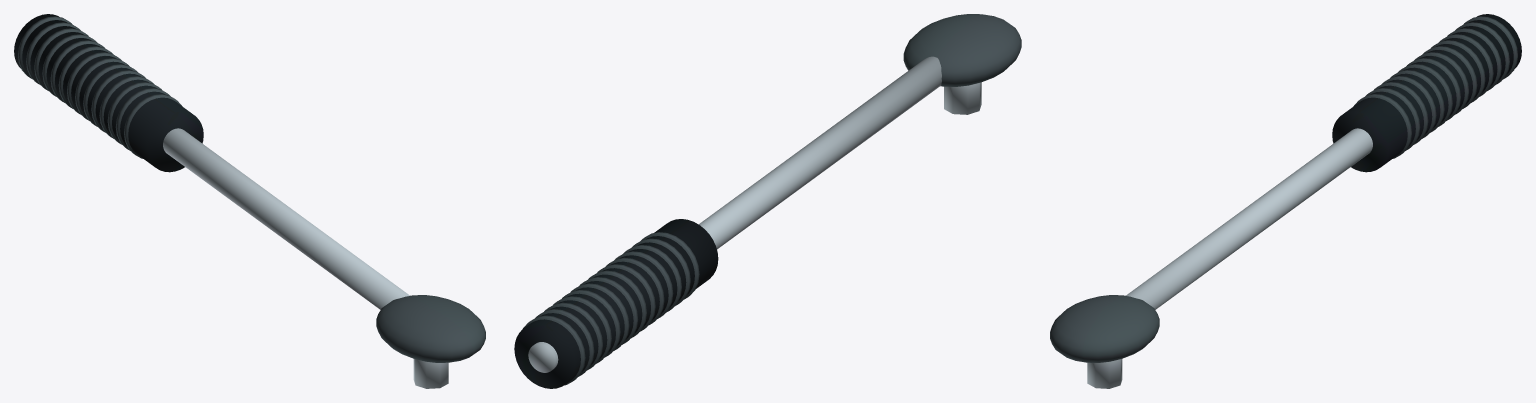
File: PROP_Wrench.mobile.glb
3 views of the same model, side by side, from view 1: azimuth 30°, elevation 25°; view 2: azimuth 150°, elevation 25°; view 3: azimuth 330°, elevation 25° (orthographic). The views are drawn at different scales.
Parts seen in each view (by area): view 1: PROP_Wrench; view 2: PROP_Wrench; view 3: PROP_Wrench.
Part boxes in pixels (x1,y1,x2,y2): PROP_Wrench: (14, 14, 485, 388); PROP_Wrench: (514, 14, 1021, 388); PROP_Wrench: (1050, 14, 1521, 388).
Size of the model in its own units: 0.056 by 0.051 by 0.469.
1 material, 1 textured.
